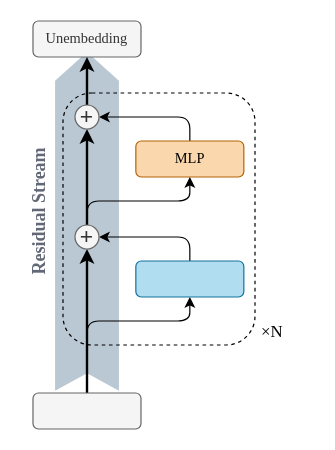
The diagram is 335 pixels wide and 450 high, and some of its shapes have lost their labels. The shapes that lost their labels are listed below. From the top down, each one's centre as x and y in pixels, then its label:
At [189,278]: "Multi-head Attention".
At [86,410]: "Embedding".
